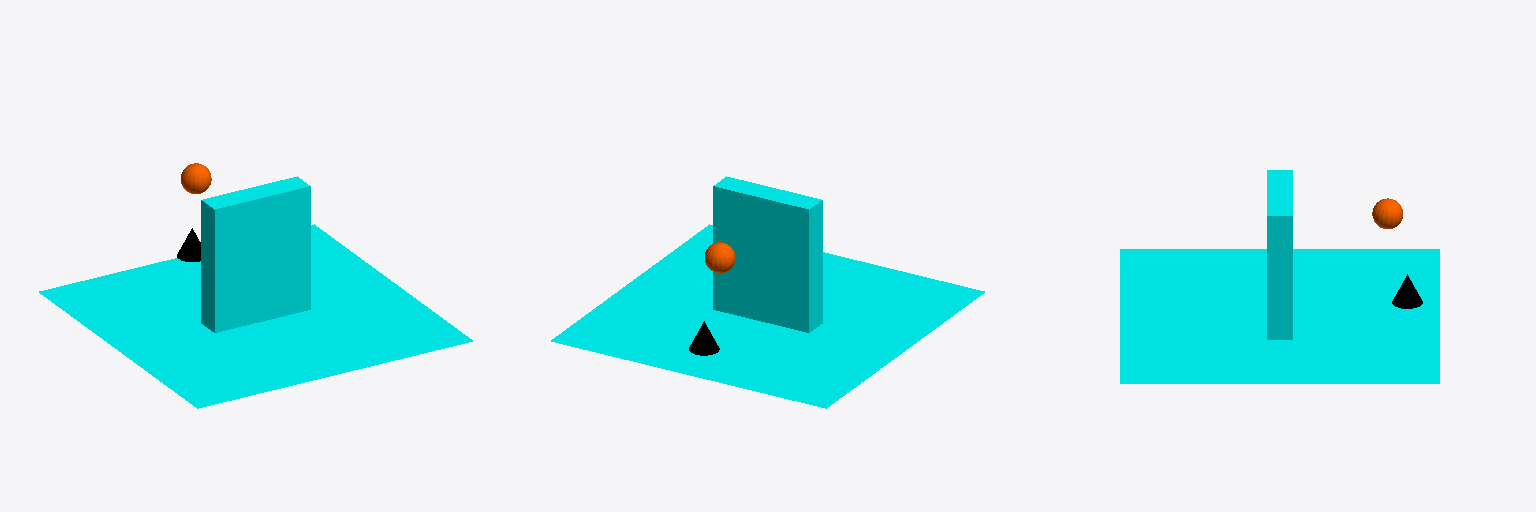
The model's file is basic_shapes_obj.obj.
3 renders of one model, left to right at view 1: azimuth 30°, elevation 25°; view 2: azimuth 150°, elevation 25°; view 3: azimuth 270°, elevation 25°, orthographic.
Parts seen in each view (by area): view 1: pPlane1, pCube1 main_shapes, main_shapes pSphere1, main_shapes pCone1; view 2: pPlane1, pCube1 main_shapes, main_shapes pSphere1, main_shapes pCone1; view 3: pPlane1, pCube1 main_shapes, main_shapes pSphere1, main_shapes pCone1.
Part boxes in pixels (left/top/right/bottom): pPlane1: left=39, top=224, right=472, bottom=408; pCube1 main_shapes: left=201, top=176, right=310, bottom=332; main_shapes pSphere1: left=181, top=163, right=211, bottom=193; main_shapes pCone1: left=177, top=228, right=200, bottom=261; pPlane1: left=551, top=224, right=984, bottom=408; pCube1 main_shapes: left=713, top=176, right=822, bottom=332; main_shapes pSphere1: left=705, top=242, right=734, bottom=272; main_shapes pCone1: left=689, top=321, right=719, bottom=355; pPlane1: left=1120, top=249, right=1439, bottom=383; pCube1 main_shapes: left=1267, top=170, right=1292, bottom=339; main_shapes pSphere1: left=1372, top=198, right=1402, bottom=228; main_shapes pCone1: left=1392, top=274, right=1422, bottom=308.
Bounding box in the file's own units: 20.58 × 8.96 × 20.58.